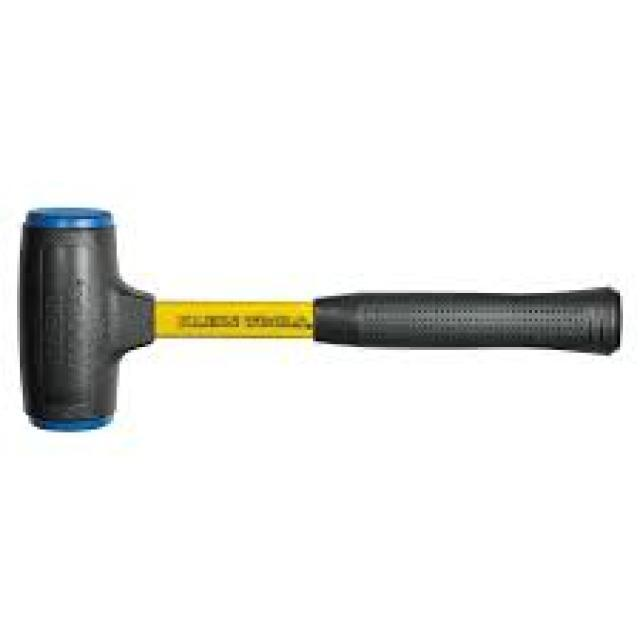Palu: (14, 183, 626, 444)
